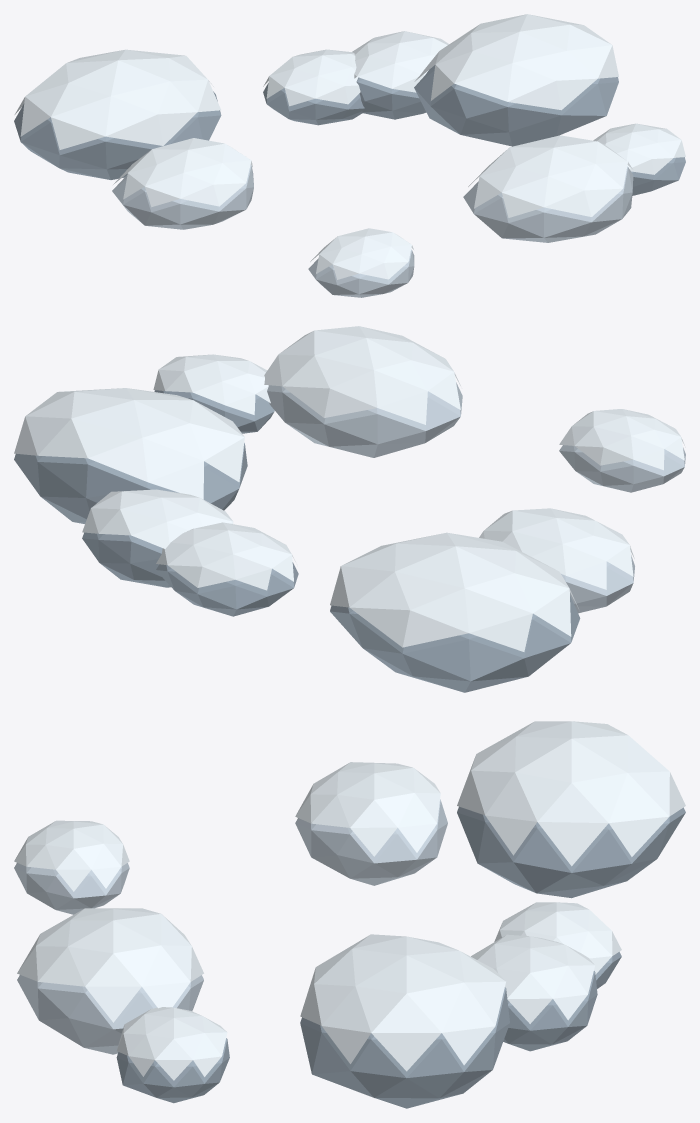
File: rock-pebbles-snowy.glb
The picture shows the model from 3 angles, top to bottom: view 1: azimuth 30°, elevation 25°; view 2: azimuth 150°, elevation 25°; view 3: azimuth 270°, elevation 25°; orthographic projection. The views are drawn at different scales.
Visible parts, largest first — view 1: rock-pebbles-kit-snowy-top, rock-pebbles-kit-snowy-stone, rock-pebbles-kit-snowy-light; view 2: rock-pebbles-kit-snowy-top, rock-pebbles-kit-snowy-stone, rock-pebbles-kit-snowy-light; view 3: rock-pebbles-kit-snowy-top, rock-pebbles-kit-snowy-stone, rock-pebbles-kit-snowy-light.
Boxes of the visible parts, box(x1,y1,x2,y2) form: rock-pebbles-kit-snowy-top: box(14, 14, 685, 279); rock-pebbles-kit-snowy-stone: box(14, 65, 685, 195); rock-pebbles-kit-snowy-light: box(112, 165, 633, 297); rock-pebbles-kit-snowy-top: box(14, 326, 685, 651); rock-pebbles-kit-snowy-stone: box(14, 390, 580, 692); rock-pebbles-kit-snowy-light: box(267, 382, 685, 613); rock-pebbles-kit-snowy-top: box(14, 721, 685, 1080); rock-pebbles-kit-snowy-stone: box(116, 806, 685, 1108); rock-pebbles-kit-snowy-light: box(14, 799, 447, 1054).
Bounding box in the file's own units: 1.6 × 0.3068 × 1.4.
